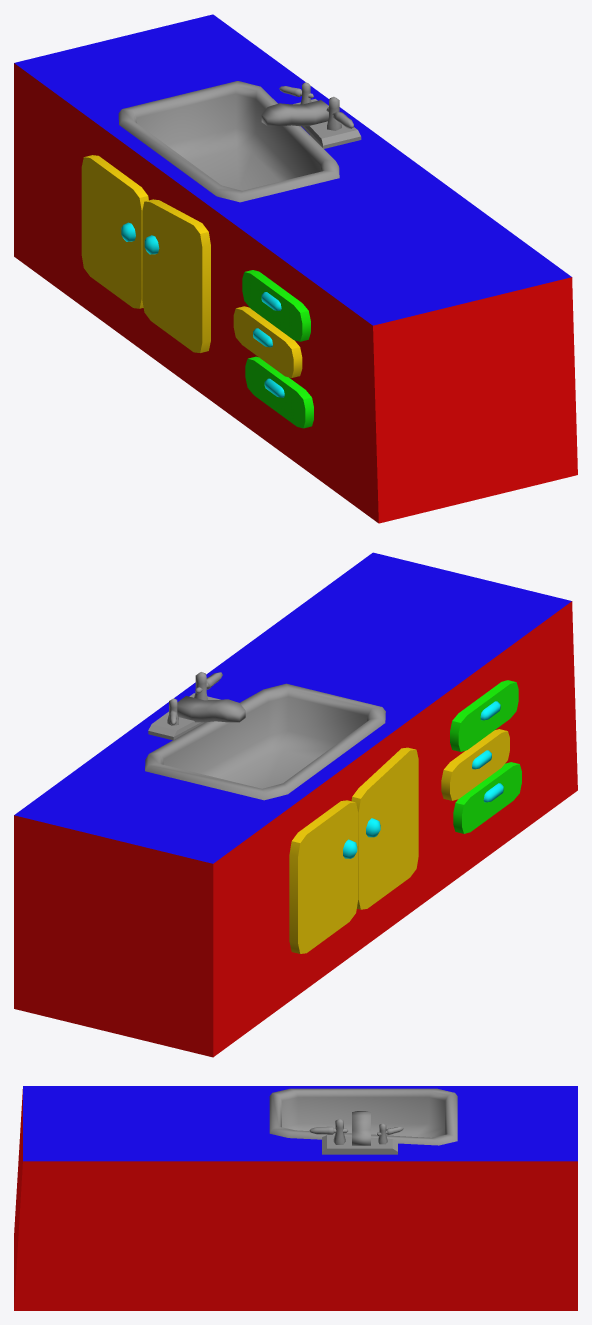
The model's file is Sink.FBX.
The picture shows the model from 3 angles, top to bottom: view 1: azimuth 30°, elevation 25°; view 2: azimuth 150°, elevation 25°; view 3: azimuth 270°, elevation 25°; orthographic projection. The views are drawn at different scales.
Parts seen in each view (by area): view 1: Box003; view 2: Box003; view 3: Box003.
Boxes of the visible parts, bbox=[...] form: Box003: bbox=[14, 14, 577, 523]; Box003: bbox=[14, 552, 577, 1057]; Box003: bbox=[14, 1086, 577, 1310].
Bounding box in the file's own units: 56.61 × 57.76 × 164.
